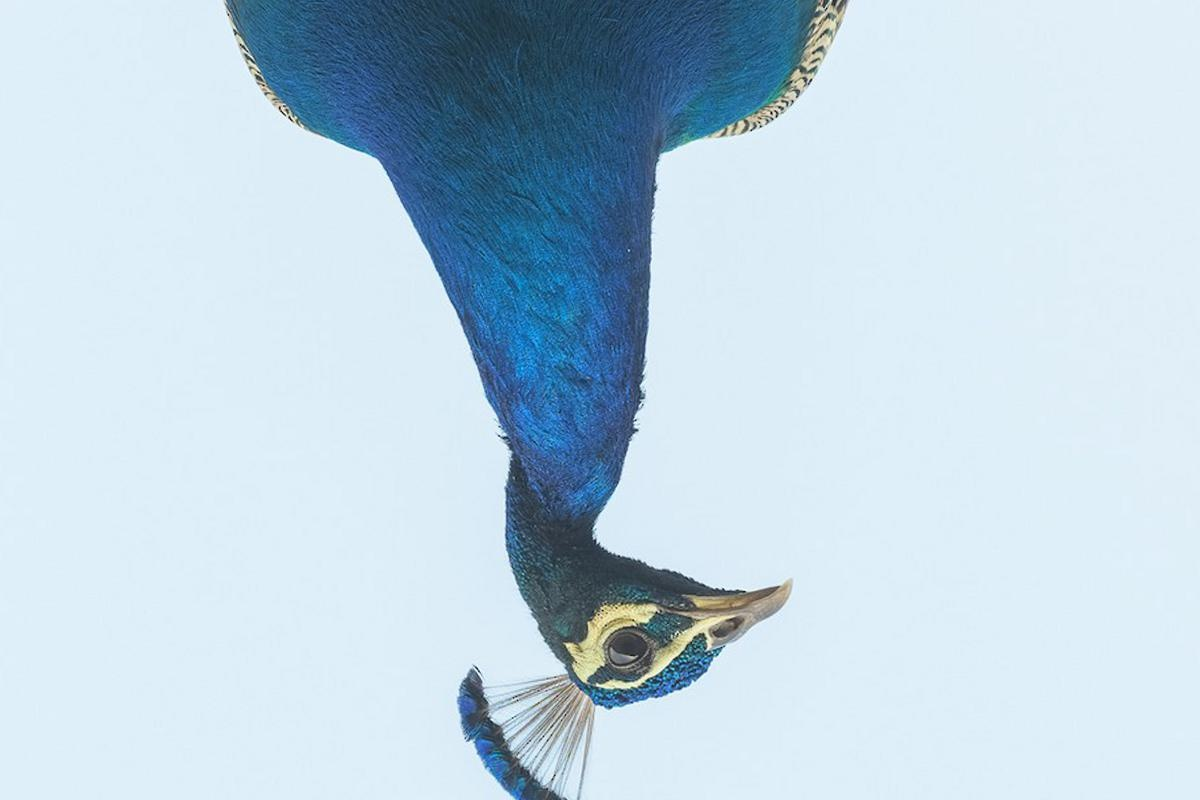peacock: (324, 1, 795, 774)
